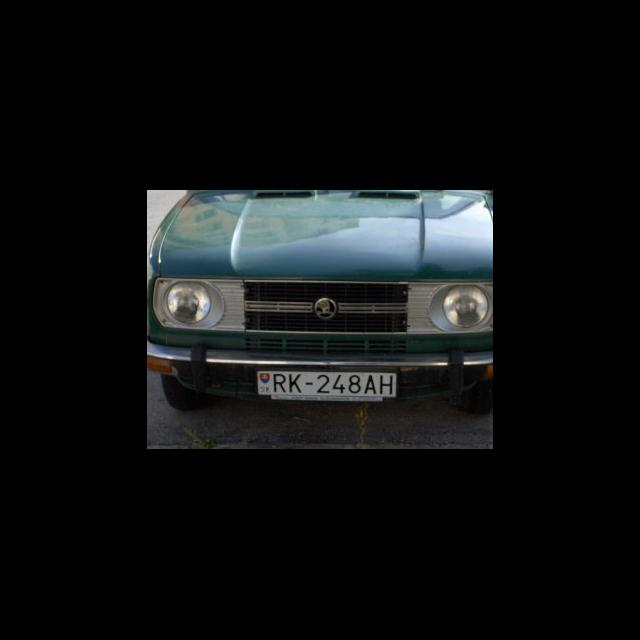Plate: (255, 368, 398, 401)
